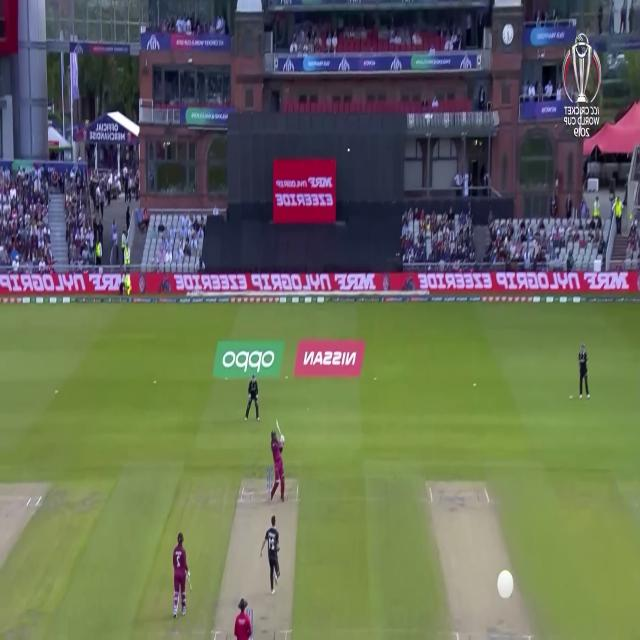ball: (346, 145, 352, 156)
